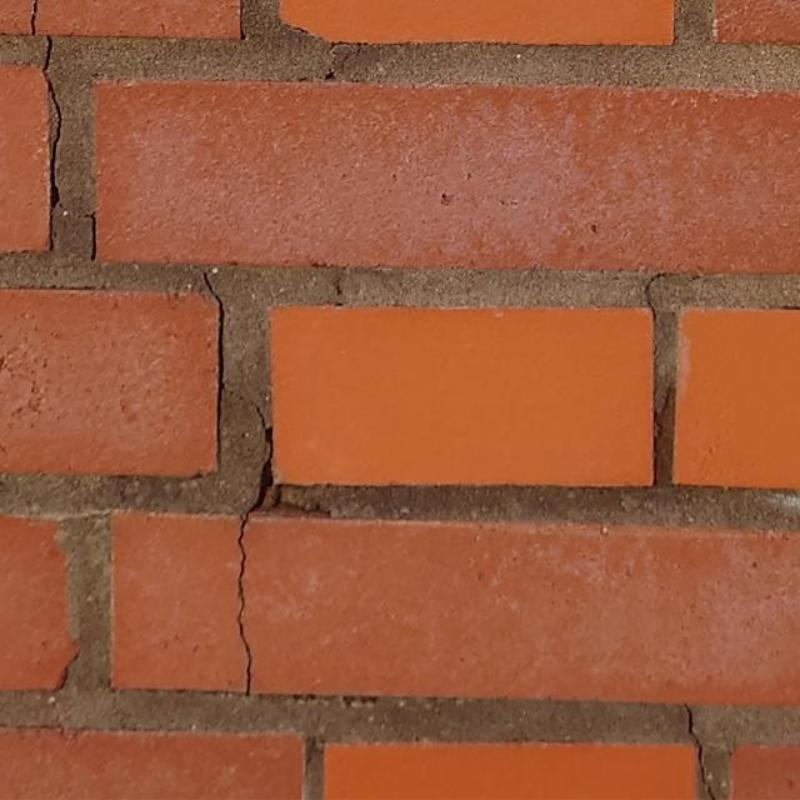pothole: (236, 406, 273, 697), (41, 36, 63, 253), (203, 272, 225, 459), (683, 700, 719, 800), (643, 271, 684, 321), (270, 483, 333, 515), (76, 211, 96, 263), (32, 2, 36, 35)
